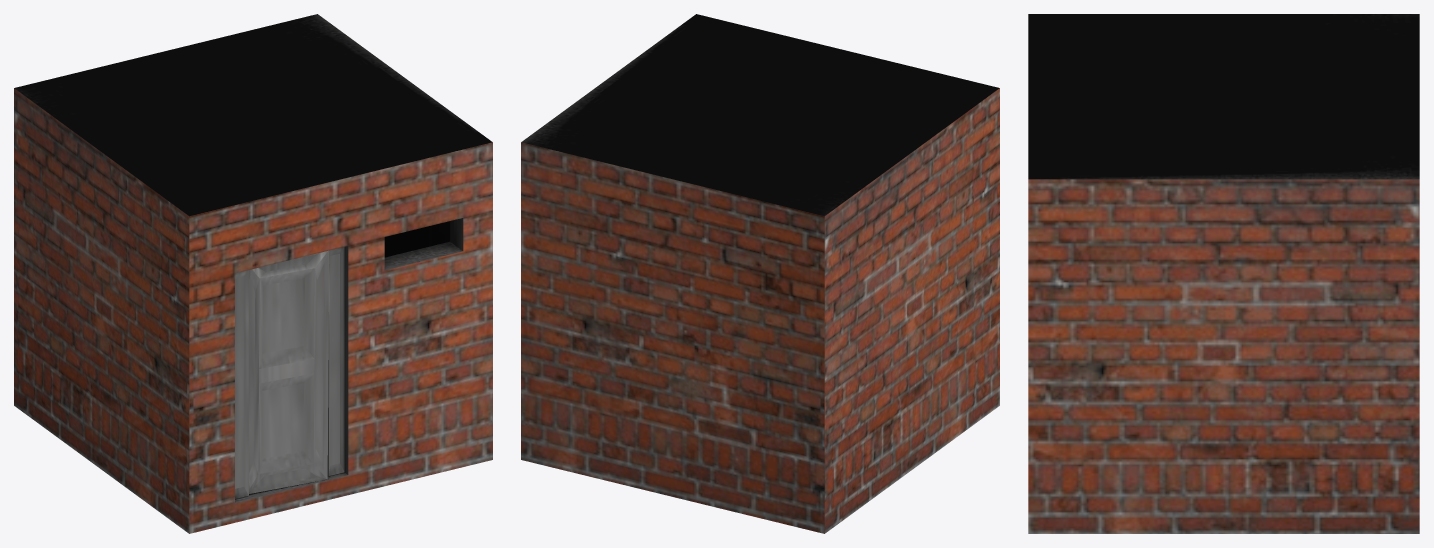
Rendered from slum_corner.glb.
3 views of the same model, side by side, from view 1: azimuth 30°, elevation 25°; view 2: azimuth 150°, elevation 25°; view 3: azimuth 270°, elevation 25° (orthographic). The views are drawn at different scales.
Parts seen in each view (by area): view 1: Object_44; view 2: Object_44; view 3: Object_44.
Part boxes in pixels (x1,y1,x2,y2): Object_44: (14, 14, 492, 533); Object_44: (521, 14, 999, 533); Object_44: (1028, 14, 1419, 533).
Bounding box in the file's own units: 3.2 × 3.2 × 3.2.
1 material, 1 textured.
